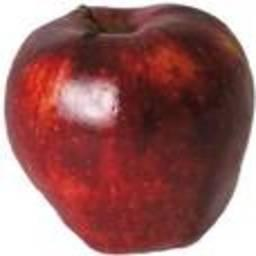apple: (2, 4, 254, 253)
